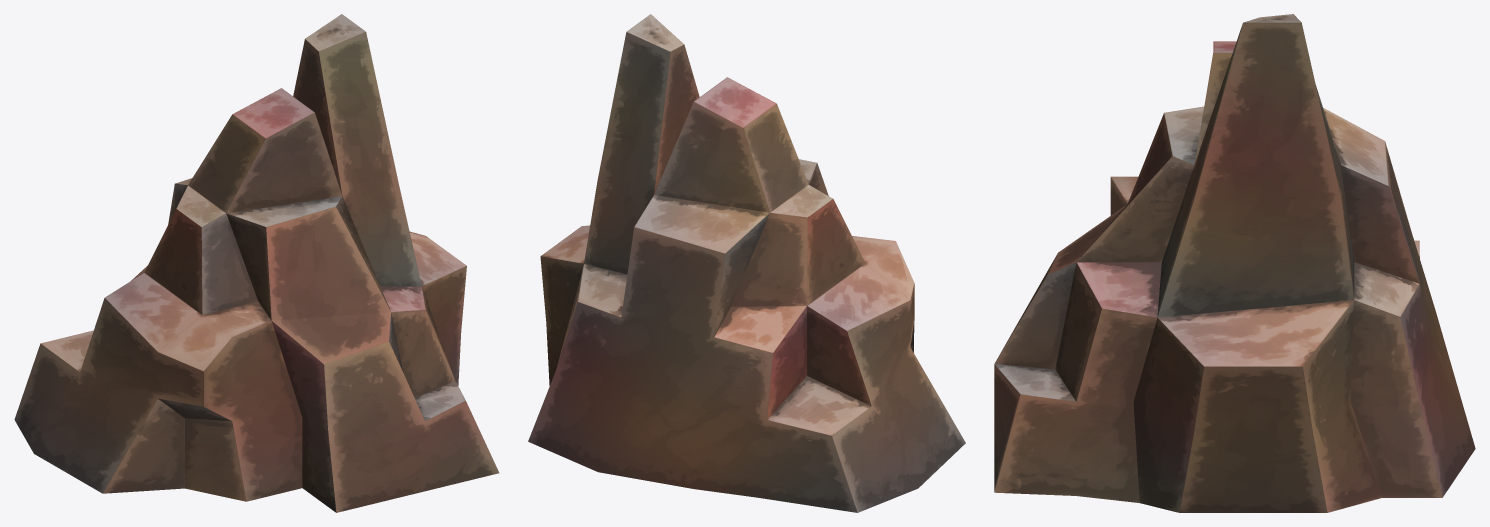
File: rock1.fbx
3 renders of one model, left to right at view 1: azimuth 30°, elevation 25°; view 2: azimuth 150°, elevation 25°; view 3: azimuth 270°, elevation 25°, orthographic. The views are drawn at different scales.
Visible parts, largest first — view 1: pCube3; view 2: pCube3; view 3: pCube3.
Boxes of the visible parts, x1,y1,x2,y2 form: pCube3: [14, 14, 499, 512]; pCube3: [528, 14, 965, 512]; pCube3: [994, 14, 1475, 512].
Size of the model in its own units: 41.06 by 38.23 by 36.89.
1 material, 1 textured.
